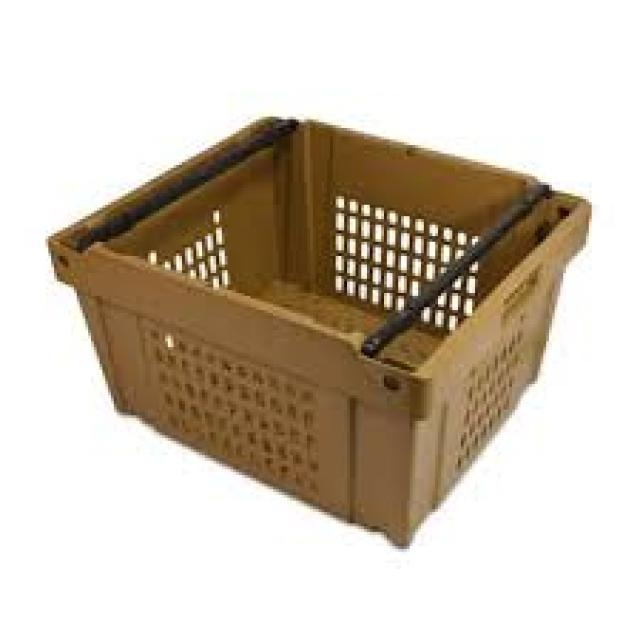basket: (0, 12, 610, 565)
